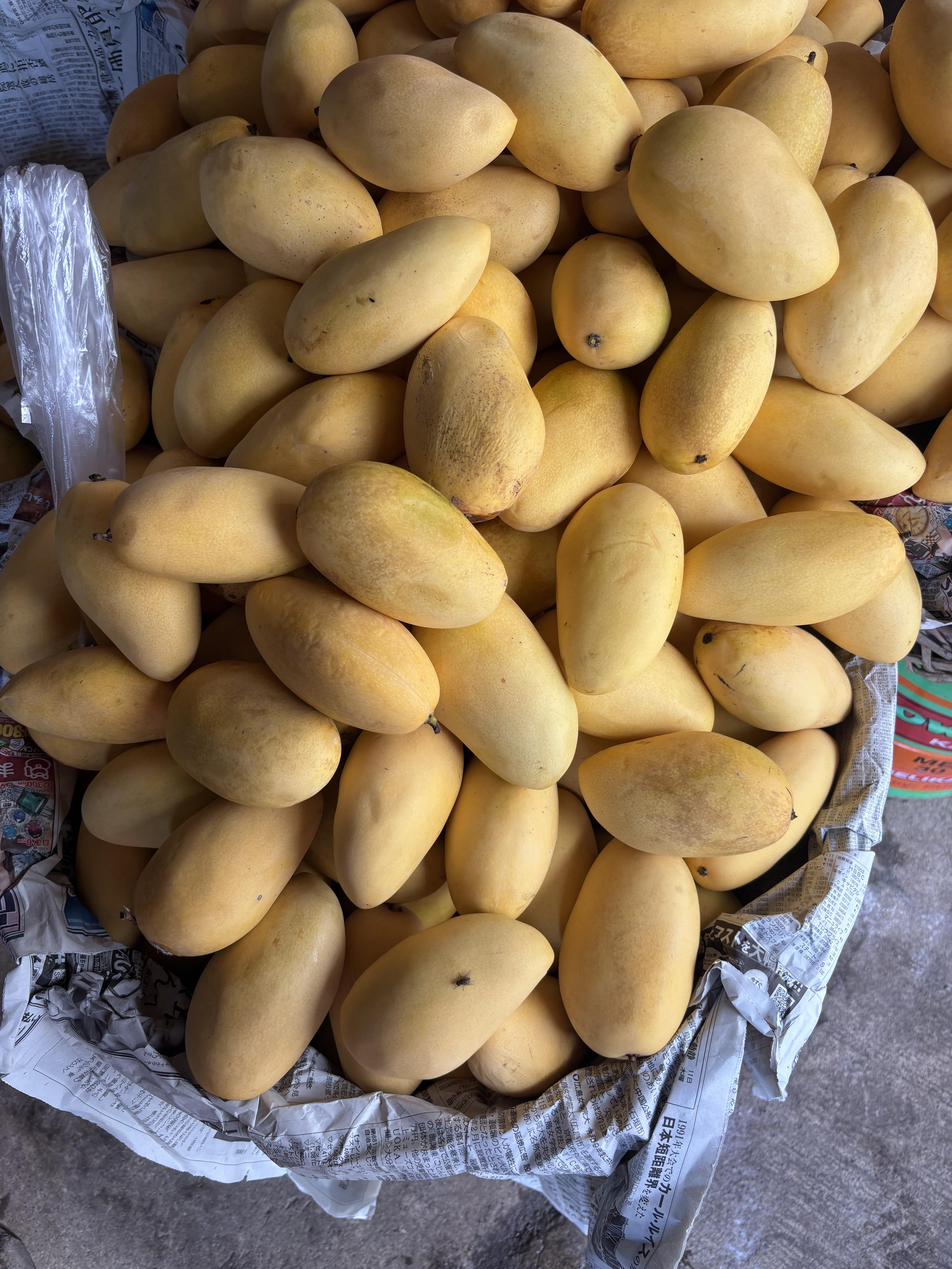mango: (629, 106, 839, 301), (297, 461, 507, 628), (318, 54, 516, 192), (579, 731, 793, 857), (551, 233, 671, 369)
occluded: (186, 873, 344, 1100), (455, 12, 642, 191), (784, 176, 937, 394), (284, 216, 490, 375), (412, 594, 578, 789), (131, 793, 323, 957), (132, 793, 322, 957), (559, 839, 699, 1059), (246, 576, 439, 734), (55, 478, 201, 681), (404, 316, 544, 521), (199, 136, 382, 283), (557, 483, 683, 695), (166, 660, 341, 808), (680, 511, 905, 625), (686, 729, 839, 893), (174, 279, 314, 458), (641, 293, 776, 475), (501, 360, 641, 532), (334, 723, 463, 908), (734, 377, 925, 500), (108, 467, 305, 584), (225, 371, 405, 485), (378, 165, 559, 273), (445, 758, 559, 918), (120, 116, 247, 256), (582, 0, 807, 78), (694, 621, 852, 732), (329, 905, 422, 1093), (0, 647, 175, 744), (619, 445, 766, 554), (716, 56, 832, 184), (82, 740, 216, 849), (518, 788, 597, 972), (570, 642, 714, 742), (468, 977, 586, 1098), (0, 511, 82, 676), (262, 0, 358, 140), (112, 247, 246, 346), (847, 308, 952, 427), (151, 298, 227, 450), (812, 560, 922, 663), (821, 42, 902, 175), (889, 0, 952, 168), (76, 822, 156, 947), (454, 260, 538, 375), (701, 33, 828, 104), (475, 518, 564, 619), (106, 74, 188, 168), (178, 45, 266, 130), (89, 152, 151, 247), (356, 0, 437, 60), (516, 254, 562, 353), (582, 171, 647, 239), (387, 833, 446, 904), (912, 410, 952, 502), (118, 336, 150, 450), (623, 79, 688, 135), (416, 0, 509, 38), (306, 776, 339, 881), (819, 0, 884, 46), (206, 0, 266, 44), (814, 165, 867, 211), (768, 492, 864, 517), (930, 212, 952, 321), (403, 881, 455, 927), (185, 0, 221, 62), (534, 608, 564, 676), (409, 38, 460, 74), (241, 0, 290, 32), (793, 13, 834, 46), (518, 0, 584, 20), (331, 0, 391, 18), (670, 76, 704, 106), (774, 348, 802, 379), (698, 71, 721, 91)
